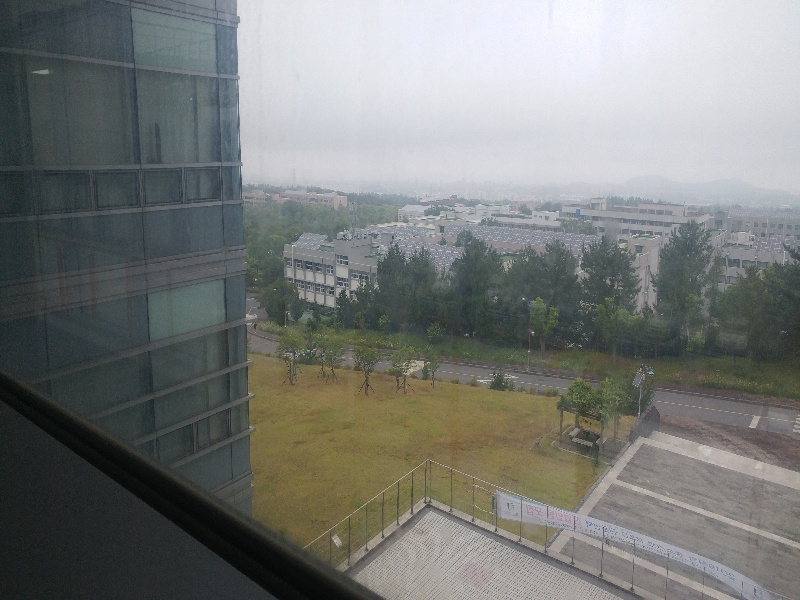Cultural lecture hall: (278, 229, 388, 312)
